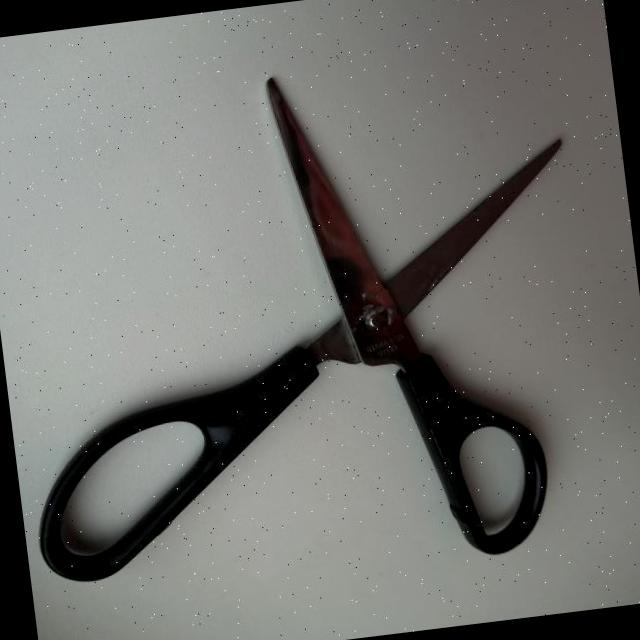scissors: (0, 32, 627, 617)
